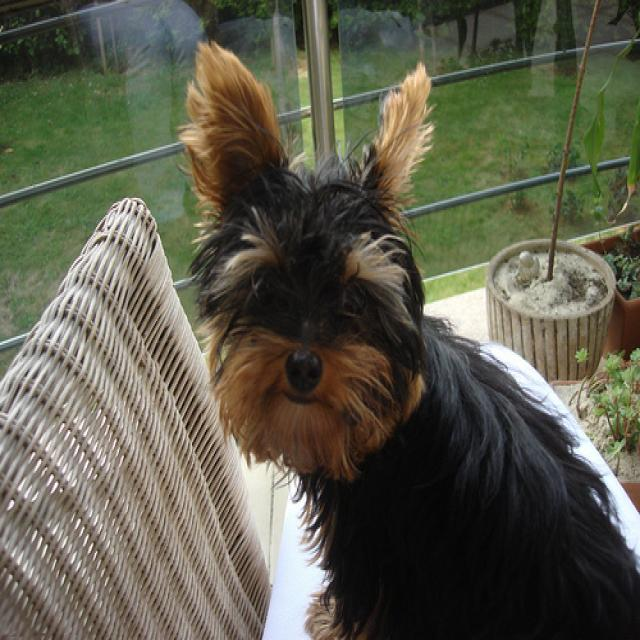dog-yorkshire_terrier: (175, 29, 637, 637)
